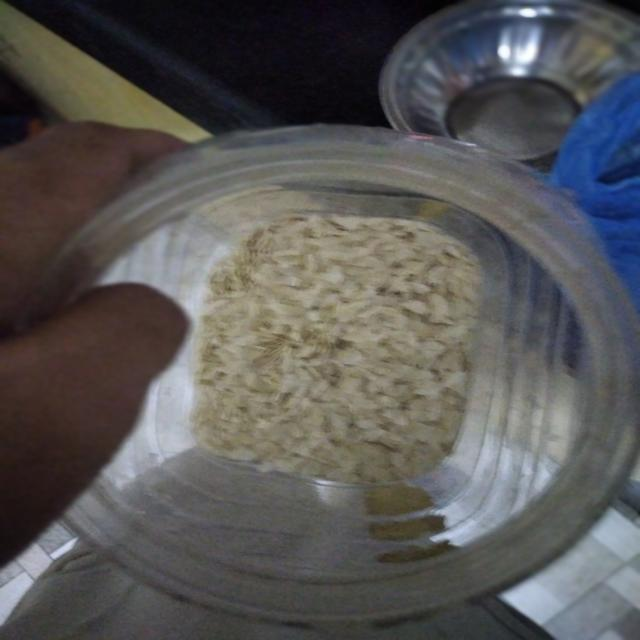Beaten Rice: (236, 252, 478, 473)
